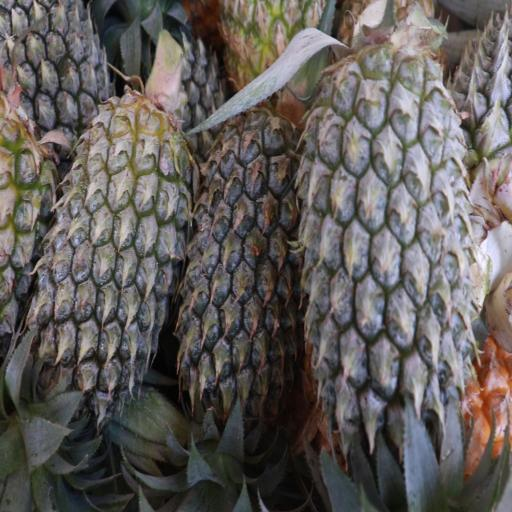------------------------------: (0, 113, 64, 334), (221, 0, 331, 113)
